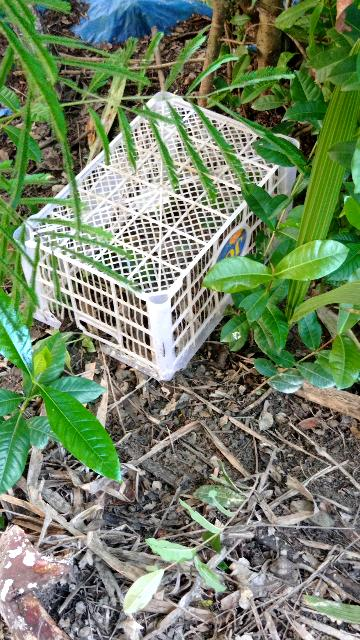hardplastic: (0, 31, 309, 377)
